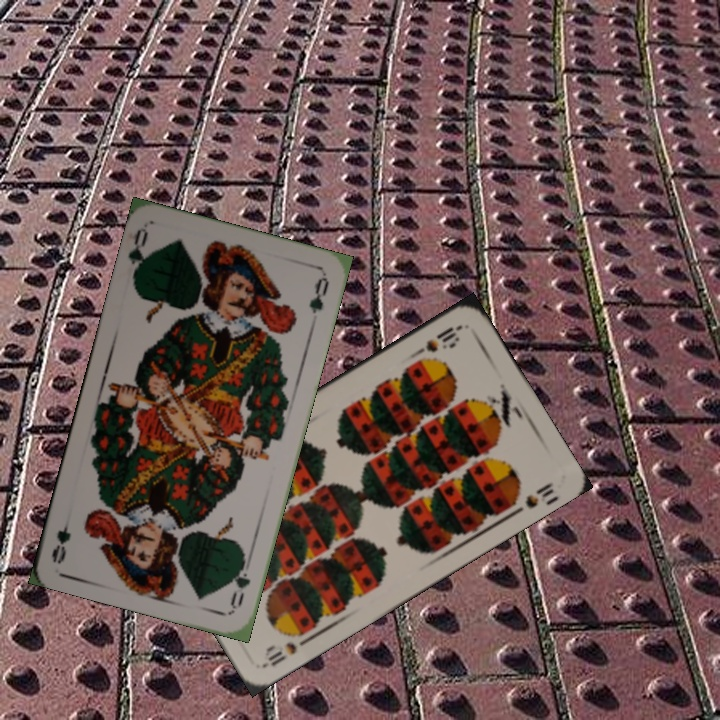GO: (124, 224, 153, 284), (226, 553, 253, 612)
S10: (260, 627, 315, 670), (410, 321, 464, 359)
